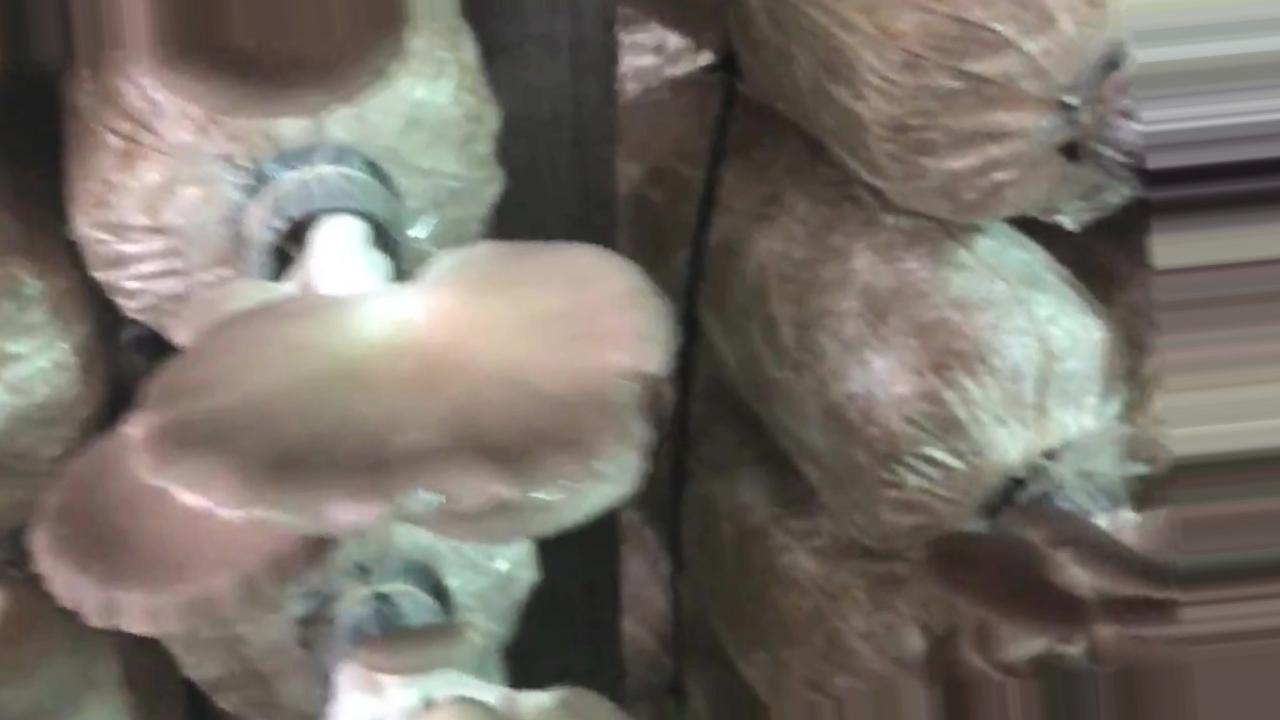nam: (117, 168, 689, 552), (21, 418, 335, 634), (148, 2, 414, 123)
